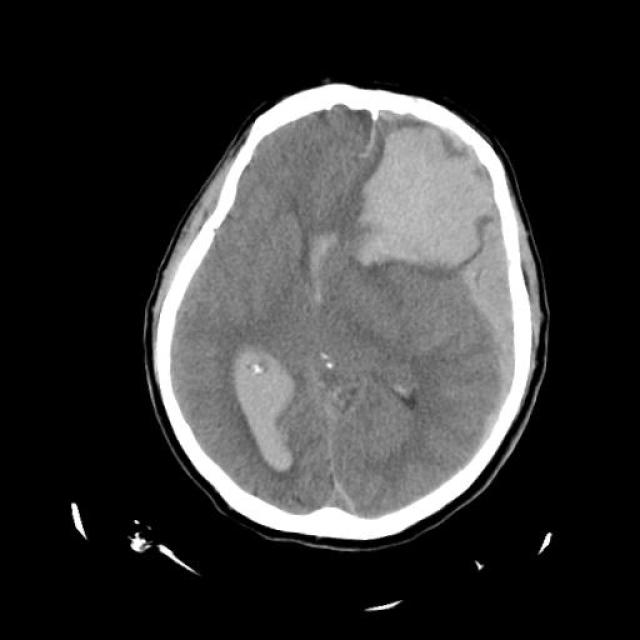Intraparenchymal: (332, 108, 504, 292), (276, 214, 346, 295)
Intraventricular: (207, 322, 334, 494)
Subdural: (462, 233, 548, 457)
